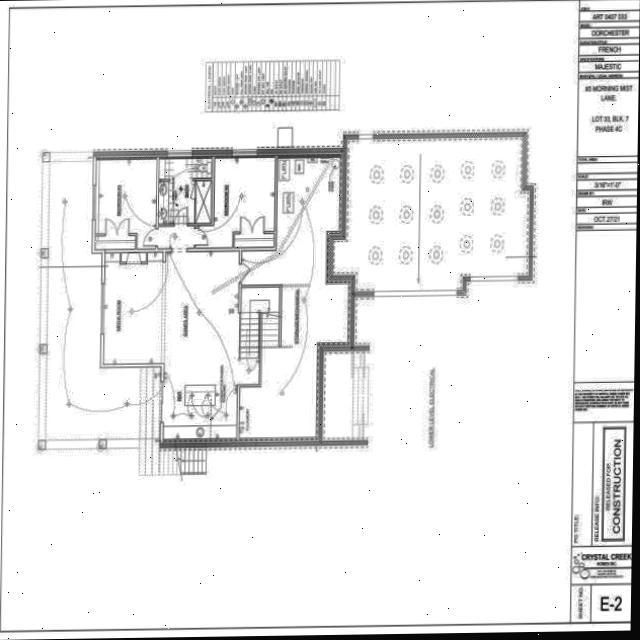room: (163, 249, 239, 439), (196, 156, 275, 248), (103, 250, 165, 364), (95, 158, 157, 248), (158, 157, 212, 224), (158, 225, 195, 248), (195, 180, 212, 223)
